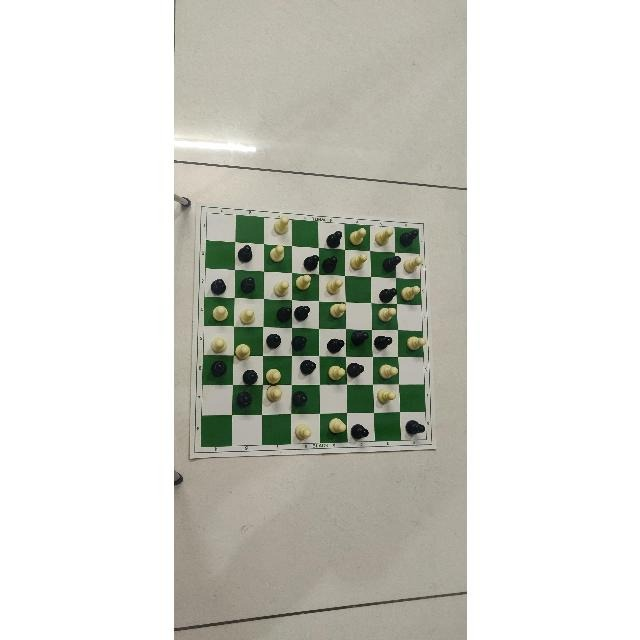black-pawn: (399, 229, 417, 246), (381, 256, 400, 272), (403, 420, 424, 434), (350, 331, 368, 347), (325, 230, 341, 247), (378, 287, 396, 302), (326, 339, 344, 354), (350, 423, 368, 438), (372, 335, 391, 349), (303, 254, 319, 270), (210, 360, 226, 376), (291, 391, 307, 407), (235, 391, 251, 407), (236, 245, 251, 262), (321, 256, 336, 273), (239, 276, 254, 293), (298, 359, 315, 374), (346, 363, 364, 377), (209, 279, 224, 295), (276, 306, 291, 321), (293, 305, 308, 320), (241, 369, 256, 384), (265, 333, 280, 348), (290, 335, 305, 350)
white-pawn: (374, 228, 392, 245), (403, 257, 422, 273), (376, 388, 395, 404), (378, 364, 398, 379), (348, 228, 365, 245), (349, 253, 367, 269), (328, 418, 346, 434), (272, 215, 287, 234), (400, 286, 419, 301), (377, 307, 396, 322), (405, 337, 425, 351), (325, 278, 342, 294), (327, 365, 344, 381), (265, 384, 281, 401), (268, 245, 283, 263), (211, 305, 227, 321), (238, 308, 254, 324), (210, 337, 226, 353), (234, 344, 250, 360), (328, 303, 345, 318), (272, 280, 287, 296), (295, 274, 310, 290), (264, 368, 279, 384), (294, 423, 310, 438)
